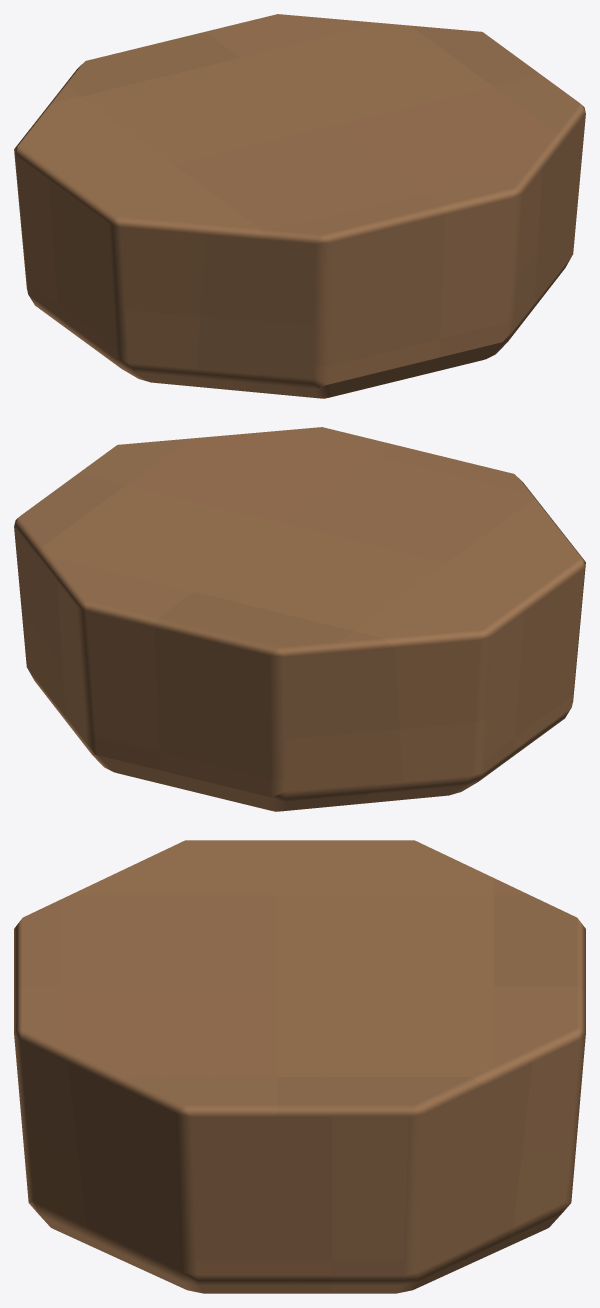
Rendered from Stopper.glb.
3 renders of one model, top to bottom at view 1: azimuth 30°, elevation 25°; view 2: azimuth 150°, elevation 25°; view 3: azimuth 270°, elevation 25°, orthographic. The views are drawn at different scales.
Visible parts, largest first — view 1: Stopper; view 2: Stopper; view 3: Stopper.
Boxes of the visible parts, left/top/right/bottom form: Stopper: left=14, top=14, right=585, bottom=398; Stopper: left=14, top=427, right=585, bottom=811; Stopper: left=14, top=840, right=585, bottom=1293.
Bounding box in the file's own units: 0.1161 × 0.042 × 0.1032.
Materials: 1 (1 with a texture image).
